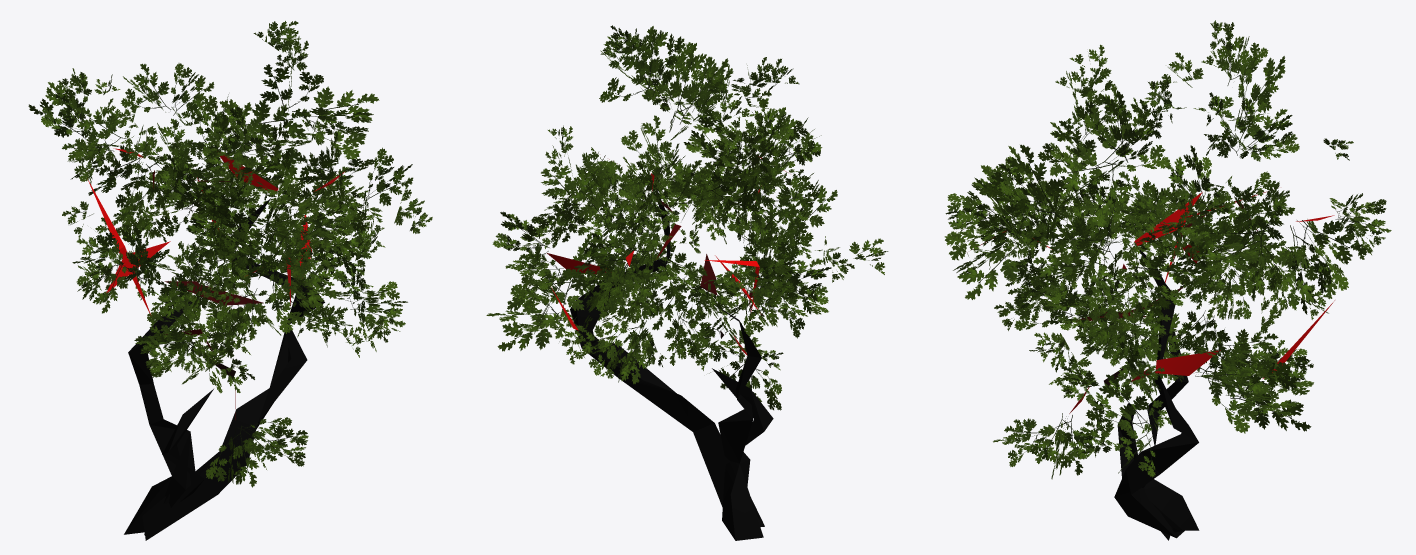
The model's file is oak3 lod3.FBX.
The picture shows the model from 3 angles, left to right: view 1: azimuth 30°, elevation 25°; view 2: azimuth 150°, elevation 25°; view 3: azimuth 270°, elevation 25°; orthographic projection. The views are drawn at different scales.
Parts seen in each view (by area): view 1: oak 3_LOD3; view 2: oak 3_LOD3; view 3: oak 3_LOD3.
Part boxes in pixels (left/top/right/bottom): oak 3_LOD3: left=28, top=21, right=432, bottom=540; oak 3_LOD3: left=486, top=25, right=888, bottom=540; oak 3_LOD3: left=944, top=20, right=1391, bottom=540.
Bounding box in the file's own units: 90170 × 125315 × 103929.
